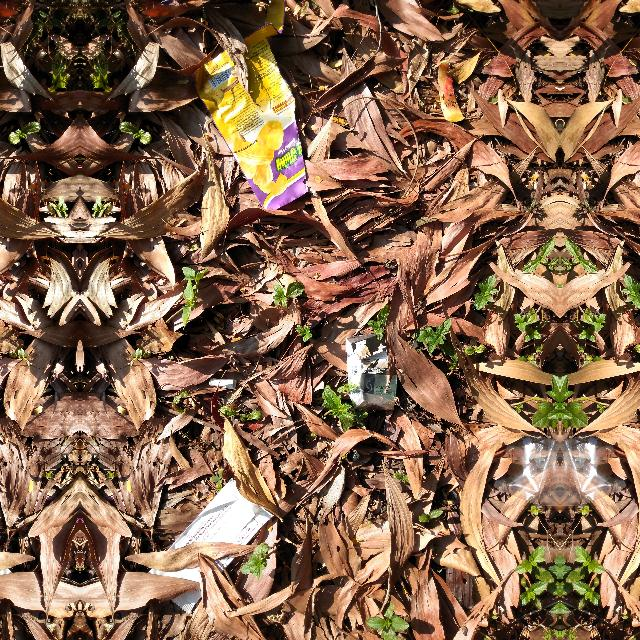Cardboard: (341, 325, 407, 413)
Paper: (188, 0, 316, 216), (138, 474, 284, 620), (207, 374, 241, 394)
Plastic: (475, 426, 557, 530), (563, 425, 640, 530)
